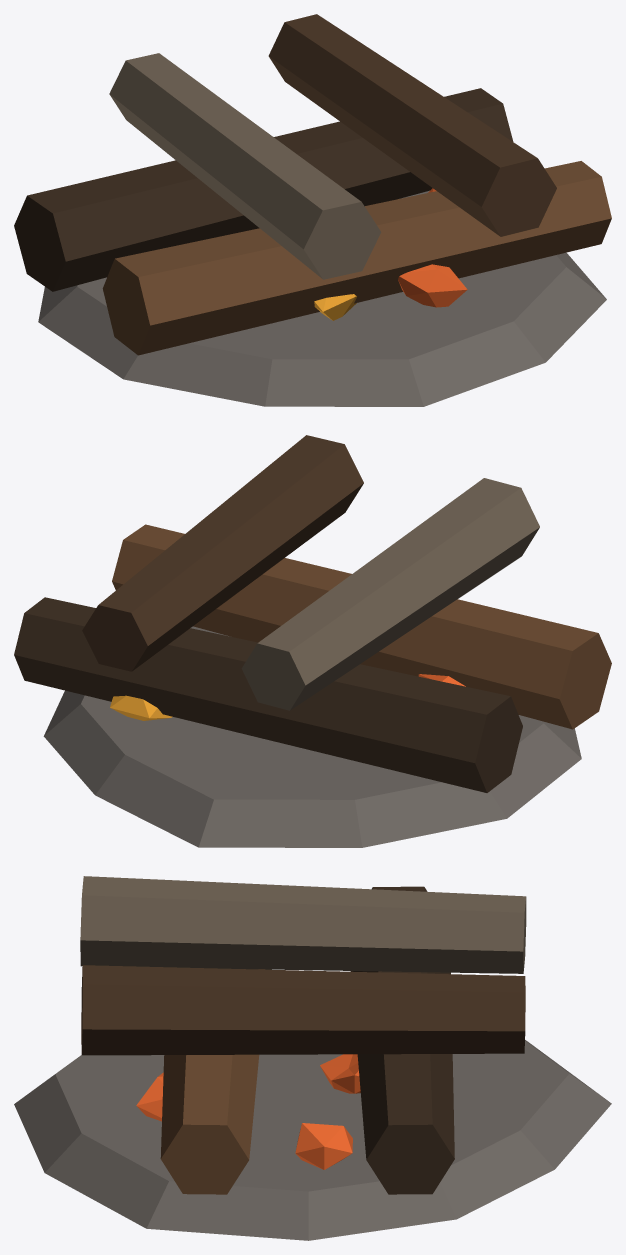
Rendered from mdvl_village_fire_02.glb.
3 views of the same model, one above another, from view 1: azimuth 30°, elevation 25°; view 2: azimuth 150°, elevation 25°; view 3: azimuth 270°, elevation 25° (orthographic). The views are drawn at different scales.
Visible parts, largest first — view 1: mdvl_village_fire_02; view 2: mdvl_village_fire_02; view 3: mdvl_village_fire_02.
Boxes of the visible parts, <box> form: mdvl_village_fire_02: <box>14,14,611,406</box>; mdvl_village_fire_02: <box>14,435,611,847</box>; mdvl_village_fire_02: <box>14,876,611,1240</box>.
Size of the model in its own units: 0.5485 by 0.2081 by 0.5808.
Materials: 1 (1 with a texture image).
